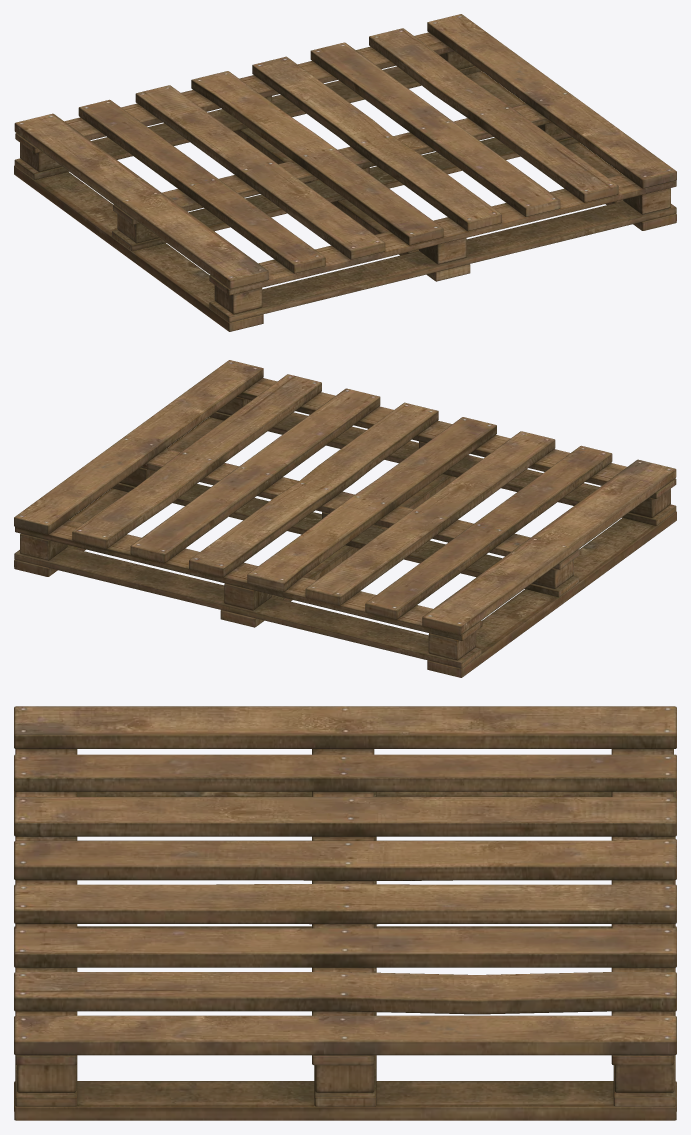
The model's file is pallet.glb.
3 views of the same model, one above another, from view 1: azimuth 30°, elevation 25°; view 2: azimuth 150°, elevation 25°; view 3: azimuth 270°, elevation 25° (orthographic). The views are drawn at different scales.
Visible parts, largest first — view 1: WoodPallet; view 2: WoodPallet; view 3: WoodPallet.
Part boxes in pixels (<box>): WoodPallet: <box>14,14,676,331</box>; WoodPallet: <box>14,360,676,677</box>; WoodPallet: <box>14,706,676,1120</box>.
Size of the model in its own units: 1.22 by 0.135 by 1.02.
Materials: 1 (1 with a texture image).
